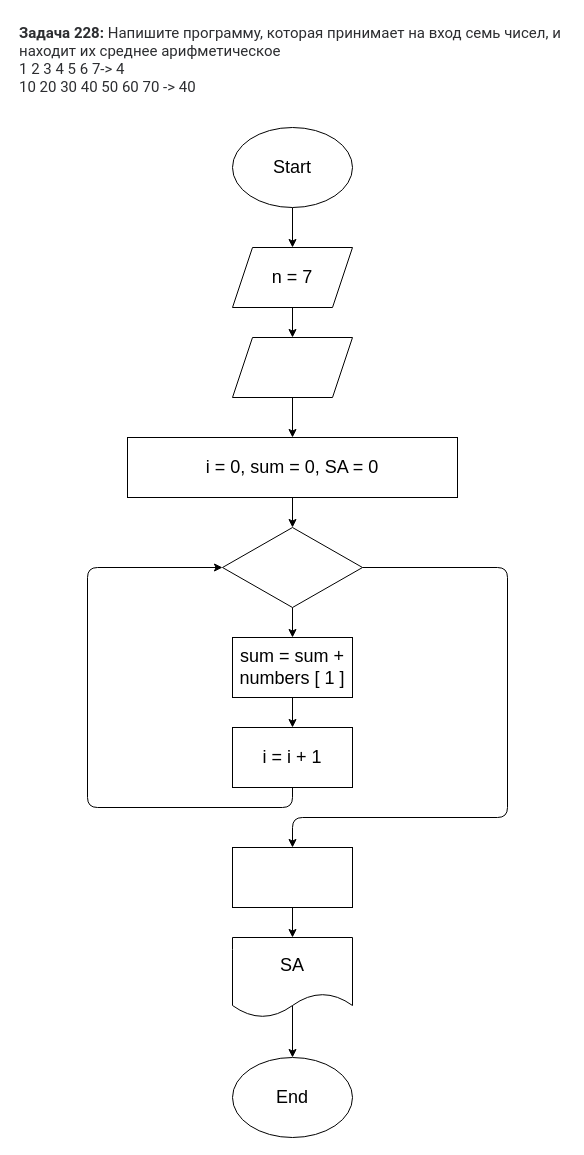
Some shapes in this 584 by 1155 pixel diagram are drawn without their labels. Here are the shapes that lost their labels. From the top down, the centre of each, then its label:
At [292,367]: "numbers [ ]".
At [292,567]: "i < n".
At [292,877]: "SA = sum / n".
